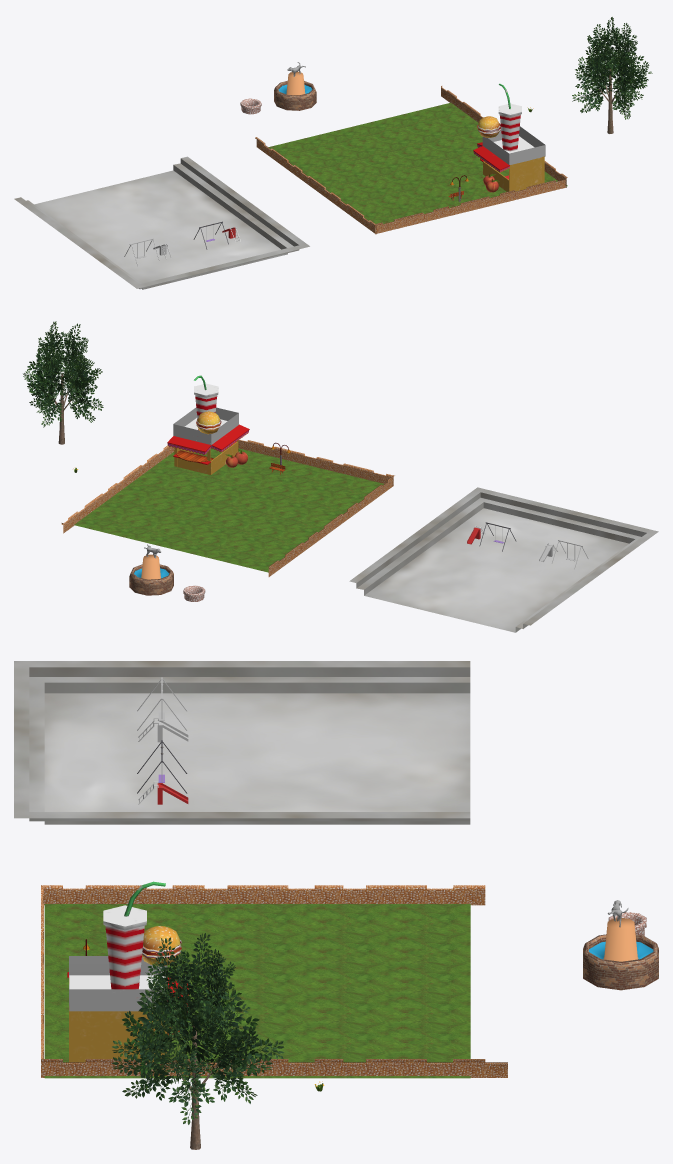
Rendered from extra item 1.fbx.
3 views of the same model, one above another, from view 1: azimuth 30°, elevation 25°; view 2: azimuth 150°, elevation 25°; view 3: azimuth 270°, elevation 25° (orthographic). The views are drawn at different scales.
Parts seen in each view (by area): view 1: pPlane325, pPlane324, polySurface9108, polySurface9112, polySurface8963, polySurface8976, polySurface8964, polySurface8965; view 2: pPlane325, pPlane324, polySurface9108, polySurface9112, polySurface8963, polySurface8976, polySurface8964, polySurface8965; view 3: pPlane325, pPlane324, polySurface9108, polySurface9112, polySurface8964, polySurface8965, polySurface8976, polySurface7766.
Boxes of the visible parts, bbox=[...] form: pPlane325: bbox=[14, 156, 309, 289]; pPlane324: bbox=[268, 102, 567, 223]; polySurface9108: bbox=[572, 17, 652, 119]; polySurface9112: bbox=[473, 83, 545, 192]; polySurface8963: bbox=[375, 178, 566, 234]; polySurface8976: bbox=[274, 62, 316, 110]; polySurface8964: bbox=[255, 137, 376, 234]; polySurface8965: bbox=[441, 86, 567, 187]; pPlane325: bbox=[349, 487, 658, 632]; pPlane324: bbox=[74, 448, 383, 572]; polySurface9108: bbox=[23, 321, 103, 427]; polySurface9112: bbox=[167, 375, 249, 474]; polySurface8963: bbox=[238, 439, 393, 486]; polySurface8976: bbox=[129, 544, 173, 595]; polySurface8964: bbox=[268, 475, 394, 576]; polySurface8965: bbox=[61, 445, 174, 533]; pPlane325: bbox=[14, 661, 470, 824]; pPlane324: bbox=[44, 904, 470, 1078]; polySurface9108: bbox=[111, 933, 284, 1124]; polySurface9112: bbox=[67, 881, 188, 1062]; polySurface8964: bbox=[41, 885, 485, 905]; polySurface8965: bbox=[41, 1059, 507, 1077]; polySurface8976: bbox=[583, 900, 658, 990]; polySurface7766: bbox=[137, 677, 188, 742].
Size of the model in its own units: 1280 by 253 by 685.
